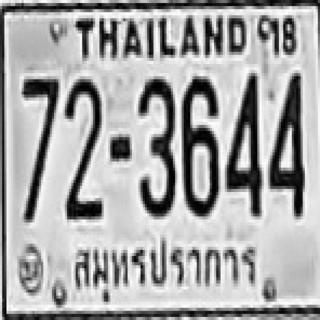N02: (64, 76, 101, 216)
N03: (136, 76, 175, 216)
N04: (268, 70, 303, 216), (225, 70, 260, 213)
N06: (179, 73, 216, 213)
N07: (22, 76, 58, 216), (22, 76, 58, 174)
P57: (65, 235, 260, 308)
